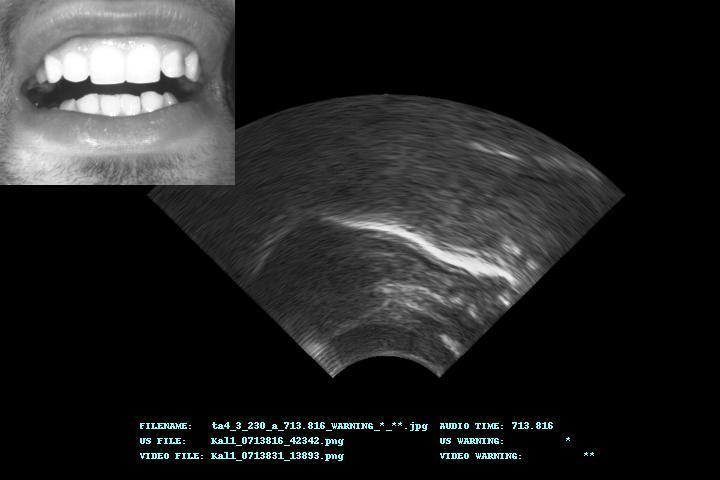-a-: (151, 97, 624, 376)
